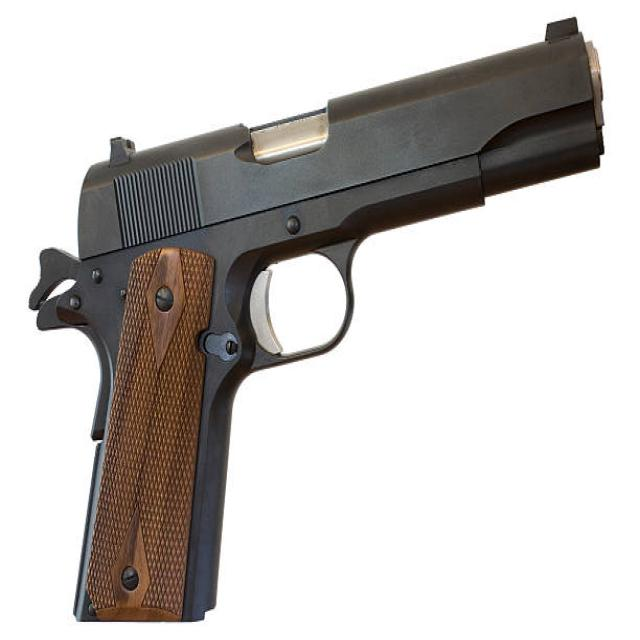pistol: (27, 13, 609, 640)
